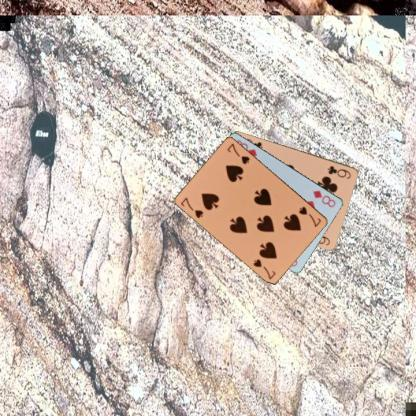6c: (325, 163, 352, 180)
7s: (178, 194, 205, 219), (296, 204, 322, 228)
8d: (311, 187, 337, 208)
